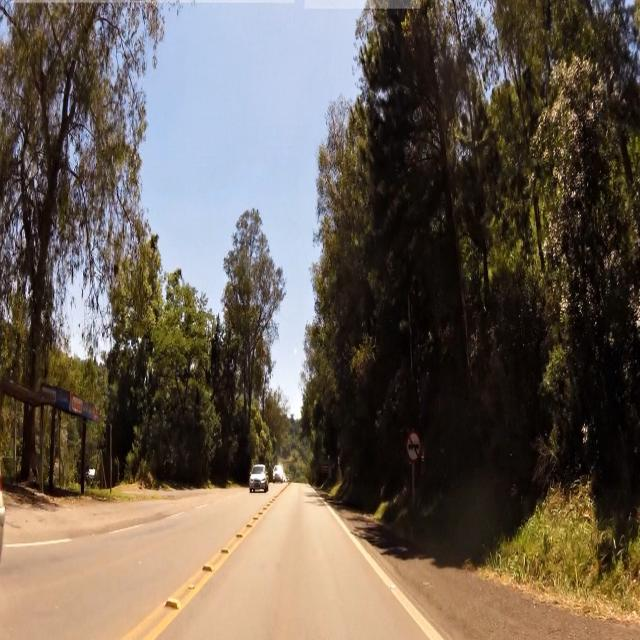R-7: (408, 427, 423, 462)
